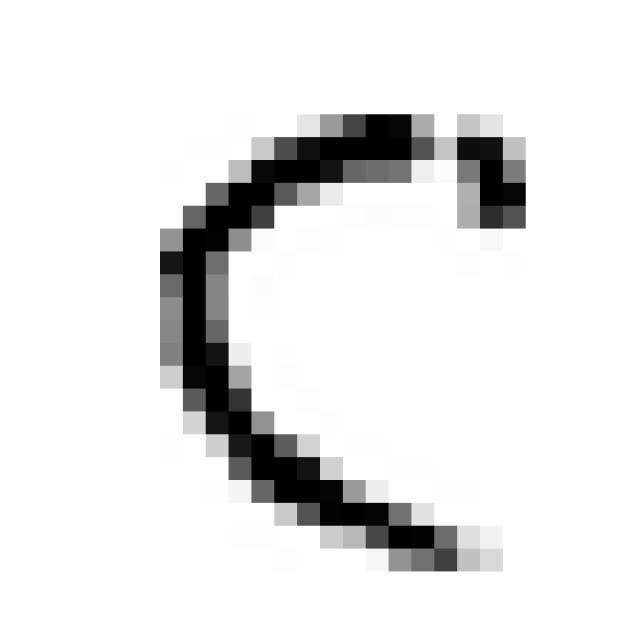2 -two-: (126, 90, 550, 592)
